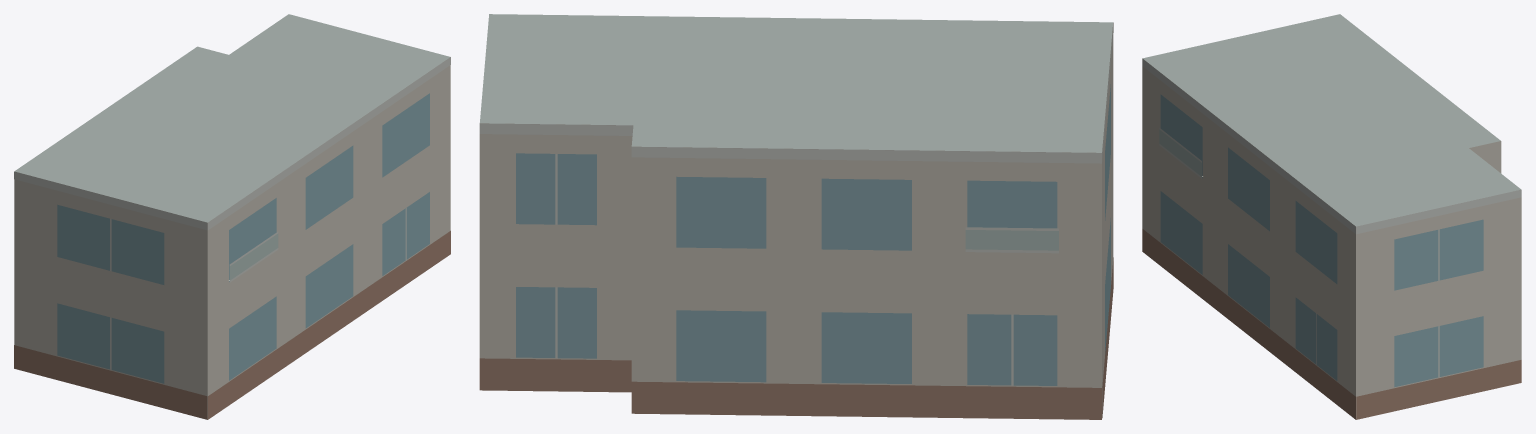
Rendered from survey-upis-32806297.glb.
3 views of the same model, side by side, from view 1: azimuth 30°, elevation 25°; view 2: azimuth 150°, elevation 25°; view 3: azimuth 270°, elevation 25° (orthographic). The views are drawn at different scales.
Visible parts, largest first — view 1: survey-upis-32806297.tmp; view 2: survey-upis-32806297.tmp; view 3: survey-upis-32806297.tmp.
Part boxes in pixels (x1,y1,x2,y2): survey-upis-32806297.tmp: (14, 14, 450, 419); survey-upis-32806297.tmp: (479, 14, 1113, 419); survey-upis-32806297.tmp: (1142, 14, 1521, 419).
Bounding box in the file's own units: 14.4 × 6.1 × 10.86.
